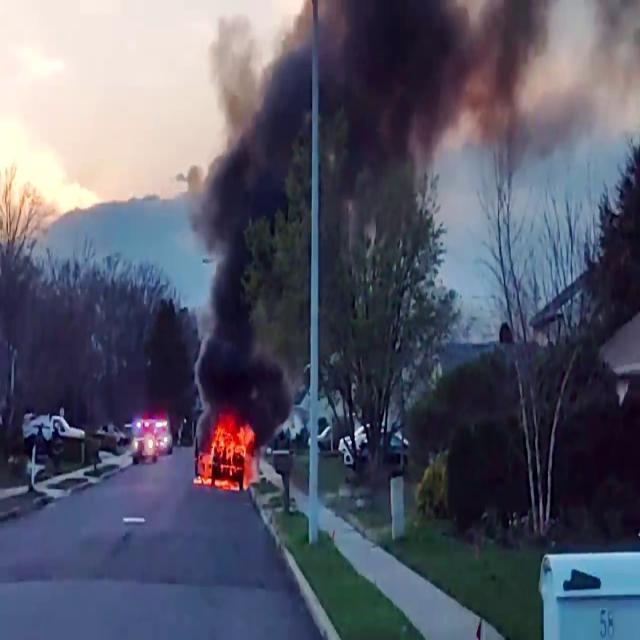Fire: (196, 409, 256, 492)
Smoke: (188, 1, 466, 408)
